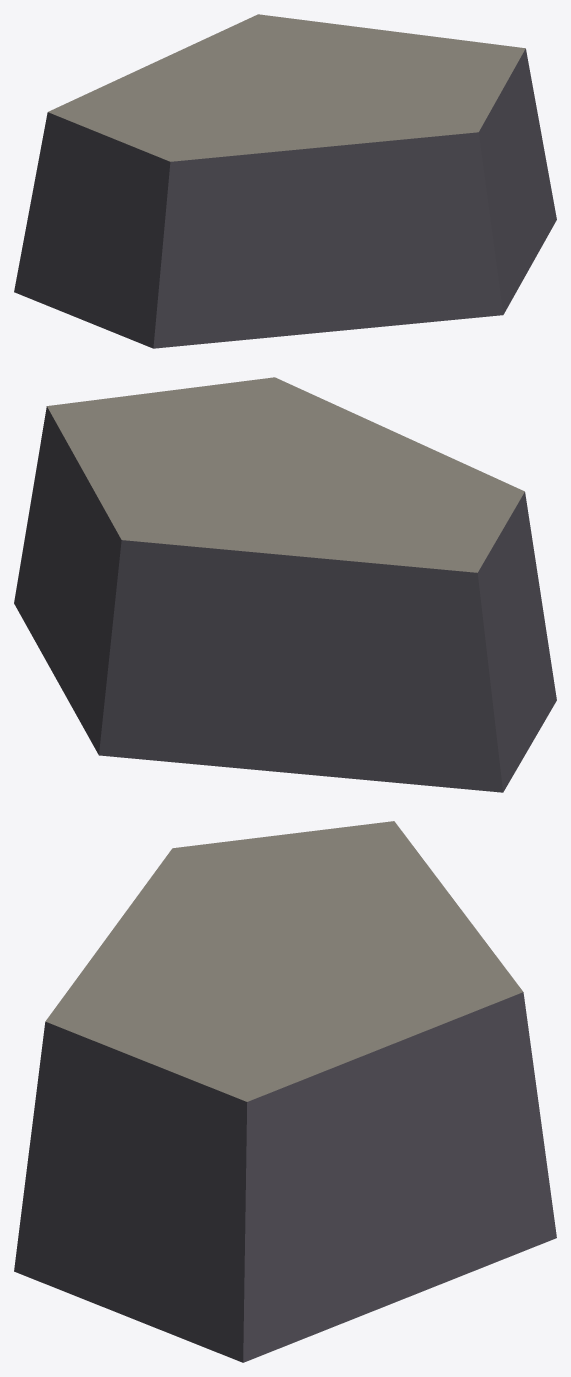
Rendered from TB_Env_RockB.FBX.
3 views of the same model, one above another, from view 1: azimuth 30°, elevation 25°; view 2: azimuth 150°, elevation 25°; view 3: azimuth 270°, elevation 25° (orthographic). The views are drawn at different scales.
Parts seen in each view (by area): view 1: TB_Env_RockB; view 2: TB_Env_RockB; view 3: TB_Env_RockB.
Boxes of the visible parts, bbox=[...] form: TB_Env_RockB: bbox=[14, 14, 556, 348]; TB_Env_RockB: bbox=[14, 377, 556, 792]; TB_Env_RockB: bbox=[14, 821, 556, 1362].
Bounding box in the file's own units: 2.36 × 0.8333 × 1.7.
